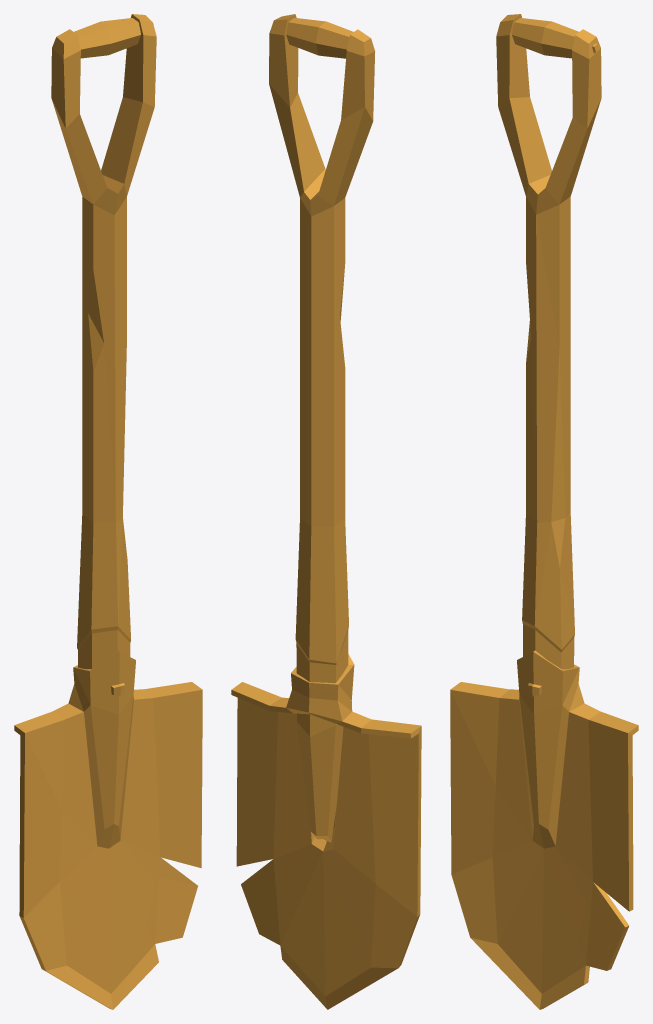
The model's file is shovel-gravedigger.fbx.
The picture shows the model from 3 angles, left to right: view 1: azimuth 30°, elevation 25°; view 2: azimuth 150°, elevation 25°; view 3: azimuth 330°, elevation 25°; orthographic projection.
Parts seen in each view (by area): view 1: shovel-gravedigger; view 2: shovel-gravedigger; view 3: shovel-gravedigger.
Part boxes in pixels (x1=…): shovel-gravedigger: x1=14, y1=14, x2=202, y2=1009; shovel-gravedigger: x1=231, y1=14, x2=421, y2=1009; shovel-gravedigger: x1=450, y1=14, x2=638, y2=1009.
Bounding box in the file's own units: 0.2188 × 1.14 × 0.0627.
